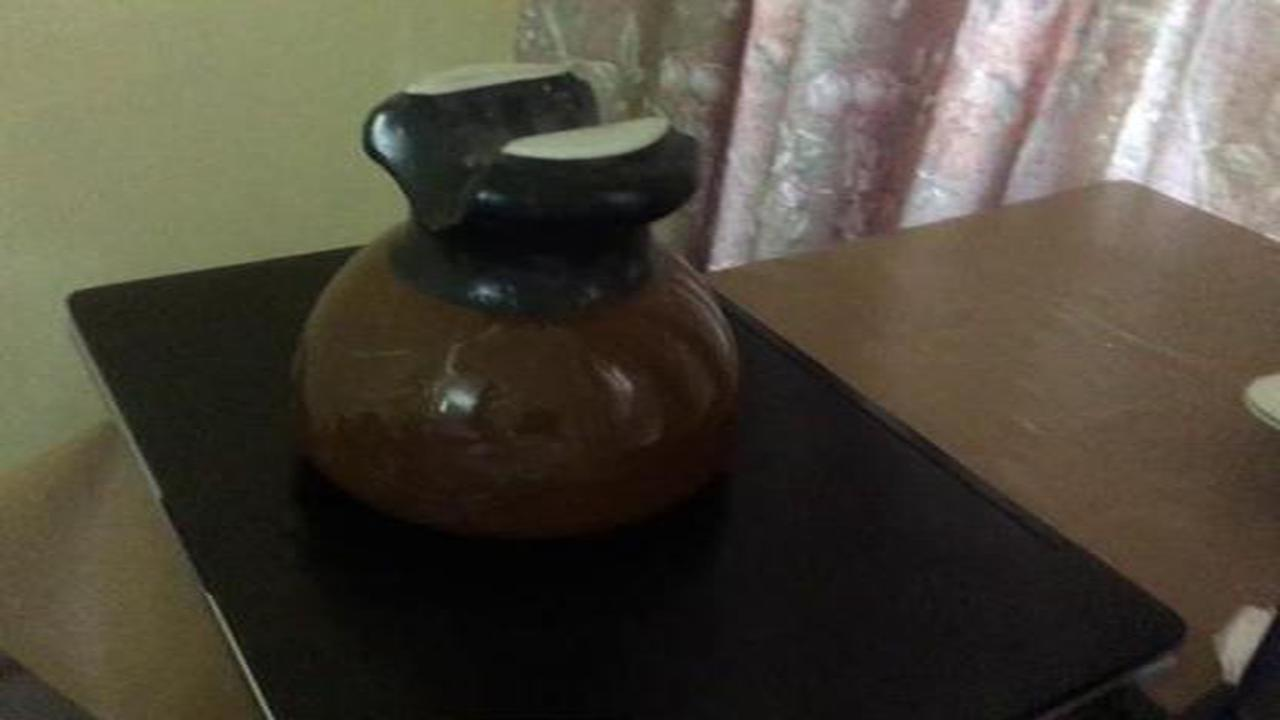insulator_pin: (253, 55, 776, 560)
